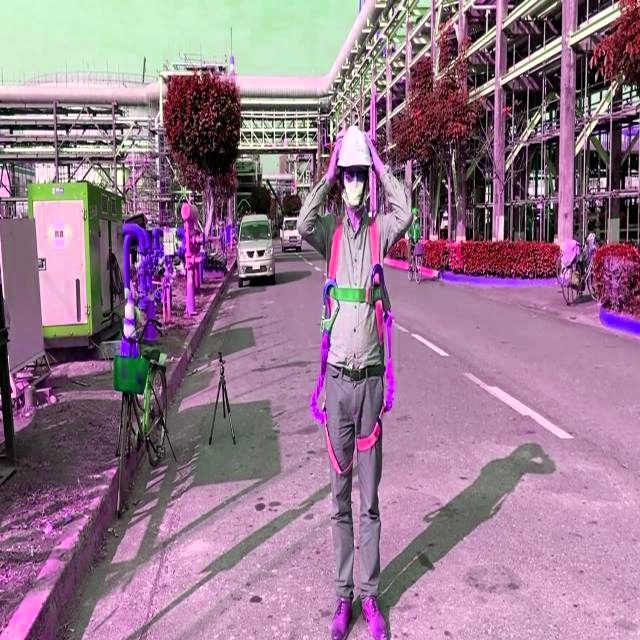safety belt: (323, 208, 410, 475)
